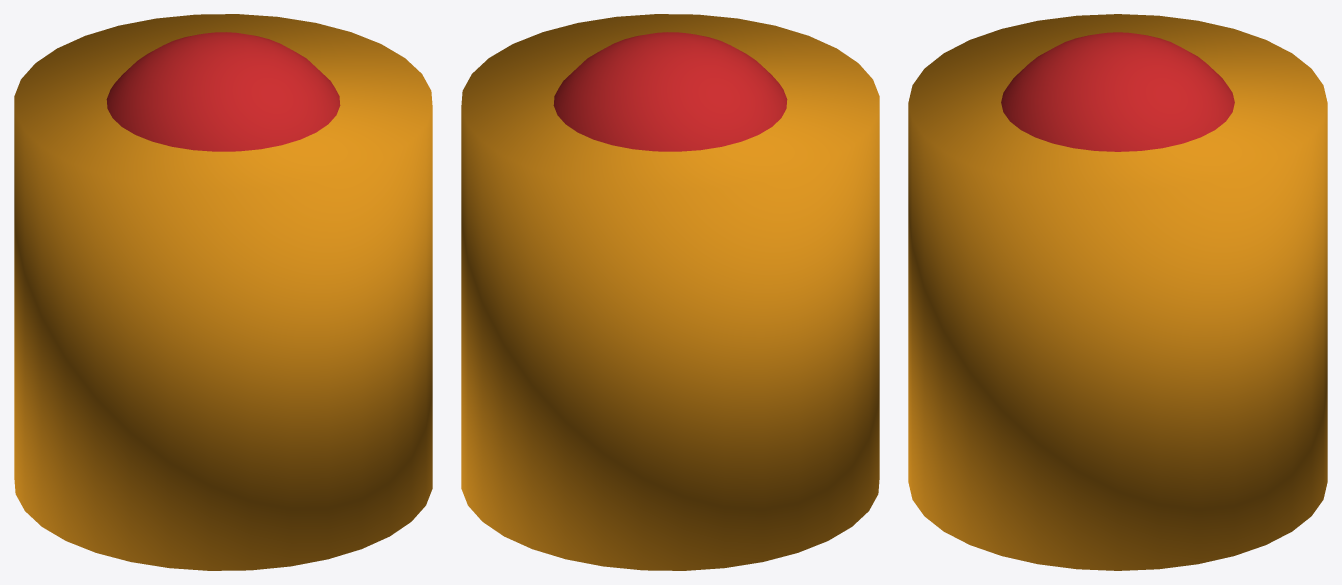
The model's file is note.glb.
The picture shows the model from 3 angles, left to right: view 1: azimuth 30°, elevation 25°; view 2: azimuth 150°, elevation 25°; view 3: azimuth 270°, elevation 25°; orthographic projection.
Parts seen in each view (by area): view 1: Cylinder, Sphere.001; view 2: Cylinder, Sphere.001; view 3: Cylinder, Sphere.001.
Part boxes in pixels (bbox=[...]): Cylinder: bbox=[14, 14, 432, 570]; Sphere.001: bbox=[106, 32, 340, 151]; Cylinder: bbox=[461, 14, 879, 570]; Sphere.001: bbox=[553, 32, 787, 151]; Cylinder: bbox=[908, 14, 1327, 570]; Sphere.001: bbox=[1001, 32, 1234, 151].
Size of the model in its own units: 2 by 2.3 by 2.
